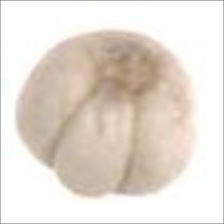L5: (47, 73, 139, 201), (94, 27, 172, 94)
L6: (12, 29, 200, 203)
